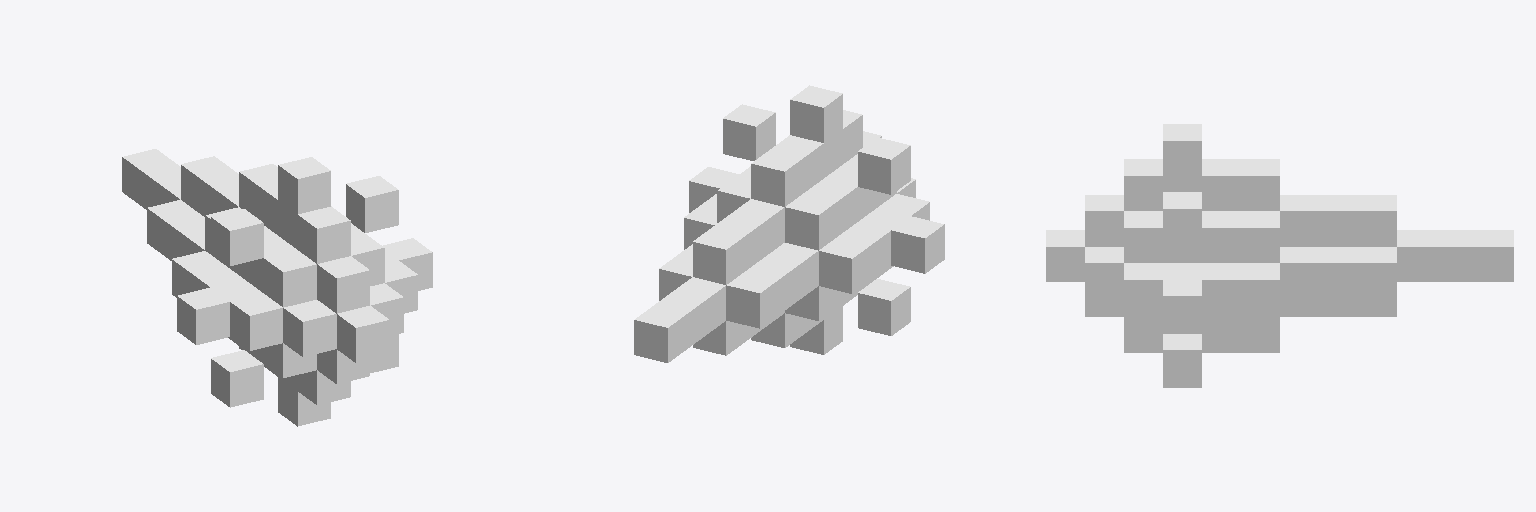
The model's file is muzzleFlash-0.obj.
The picture shows the model from 3 angles: view 1: azimuth 30°, elevation 25°; view 2: azimuth 150°, elevation 25°; view 3: azimuth 270°, elevation 25°; orthographic projection.
Visible parts, largest first — view 1: object 1; view 2: object 1; view 3: object 1.
Part boxes in pixels (left/top/right/bottom): object 1: left=122, top=149, right=432, bottom=426; object 1: left=634, top=85, right=944, bottom=362; object 1: left=1046, top=124, right=1513, bottom=387.
Size of the model in its own units: 0.7 by 0.7 by 1.2.